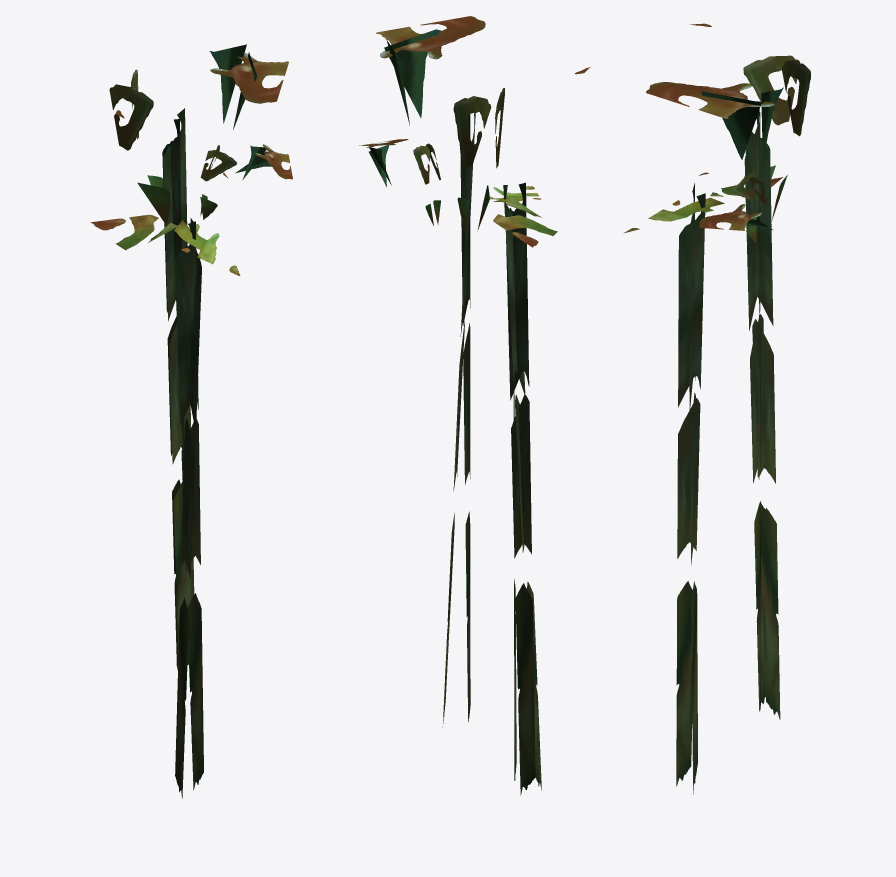
The model's file is stemple_lillypad_blank_05.fbx.
3 renders of one model, left to right at view 1: azimuth 30°, elevation 25°; view 2: azimuth 150°, elevation 25°; view 3: azimuth 270°, elevation 25°, orthographic. The views are drawn at different scales.
Visible parts, largest first — view 1: sunken_tileset/sunken_plants01_mat; view 2: sunken_tileset/sunken_plants01_mat; view 3: sunken_tileset/sunken_plants01_mat.
Boxes of the visible parts, box(x1,y1,x2,y2) form: sunken_tileset/sunken_plants01_mat: box(90, 44, 292, 798); sunken_tileset/sunken_plants01_mat: box(359, 16, 589, 795); sunken_tileset/sunken_plants01_mat: box(623, 23, 810, 794).
Size of the model in its own units: 2.45 by 8.52 by 2.45.
